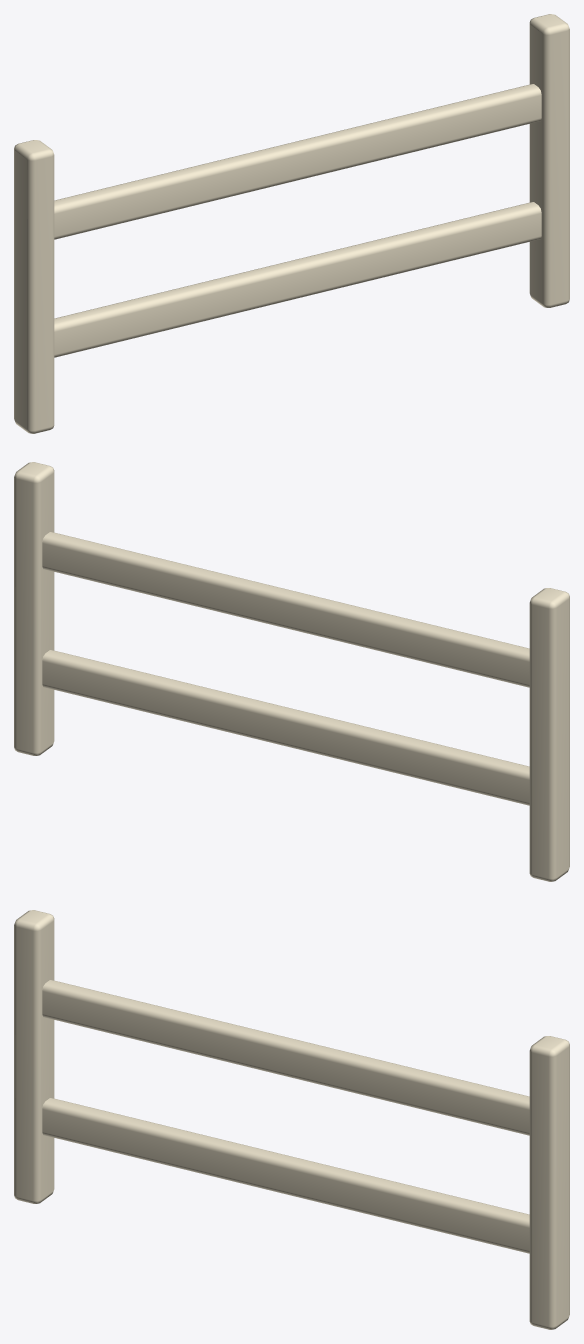
The model's file is fence.glb.
3 renders of one model, top to bottom at view 1: azimuth 30°, elevation 25°; view 2: azimuth 150°, elevation 25°; view 3: azimuth 330°, elevation 25°, orthographic.
Visible parts, largest first — view 1: Fence rail.001, Fence rail, Fence post, Fence post.001; view 2: Fence rail.001, Fence rail, Fence post, Fence post.001; view 3: Fence rail.001, Fence rail, Fence post.001, Fence post.
Boxes of the visible parts, x1,y1,x2,y2 form: Fence rail.001: (54,84,541,239); Fence rail: (54,202,541,357); Fence post: (14,140,54,433); Fence post.001: (529,14,569,307); Fence rail.001: (42,532,529,687); Fence rail: (42,650,529,805); Fence post: (529,588,569,881); Fence post.001: (14,462,54,755); Fence rail.001: (42,980,529,1135); Fence rail: (42,1098,529,1253); Fence post.001: (529,1036,569,1329); Fence post: (14,910,54,1203).
Size of the model in its own units: 2.02 by 1 by 0.12.
